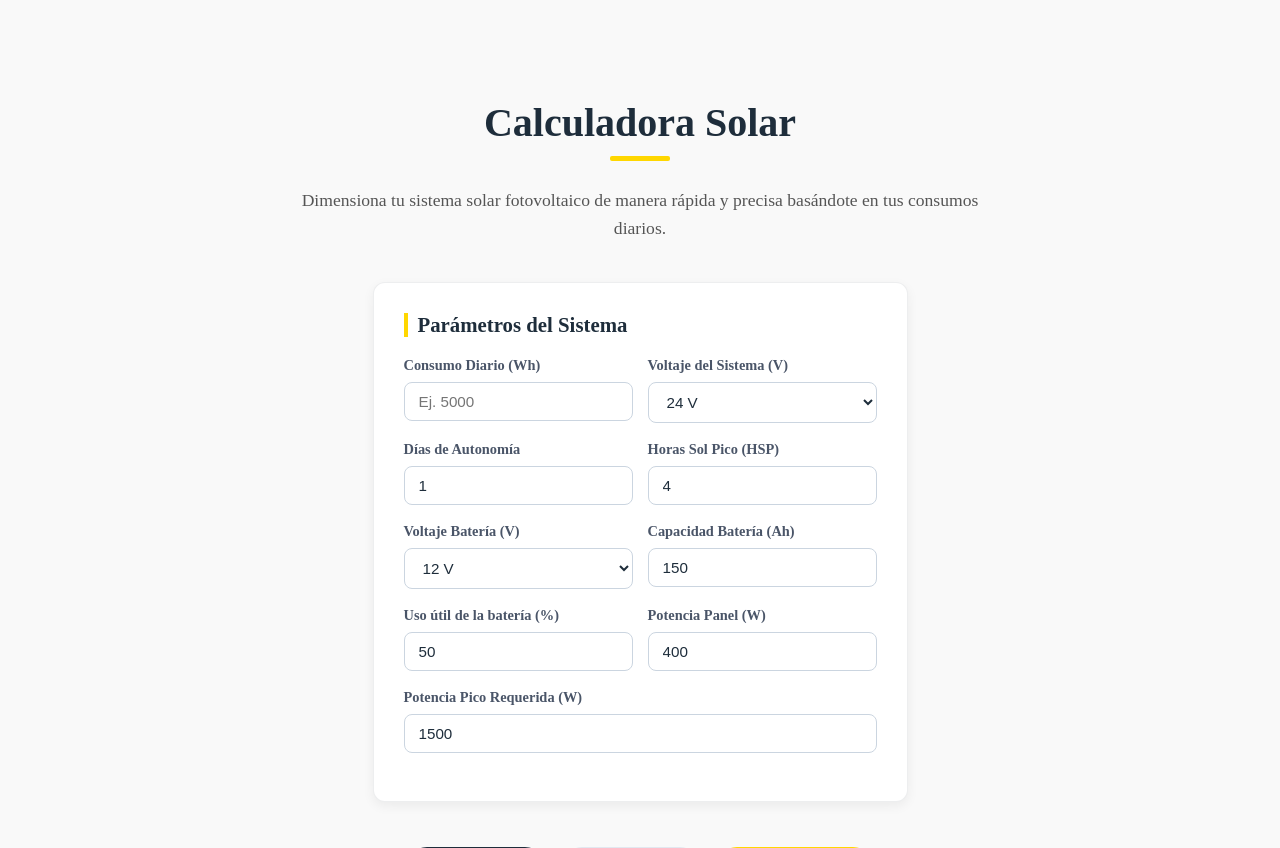
Test: CalculadoraSolar › calcula y muestra los resultados
This screenshot has width=1280, height=848.
Type "5000" into the number field with placeholder "Ej. 5000".
click(518, 402); type("5000")  # box [404, 382, 632, 422]
(page scrolled)
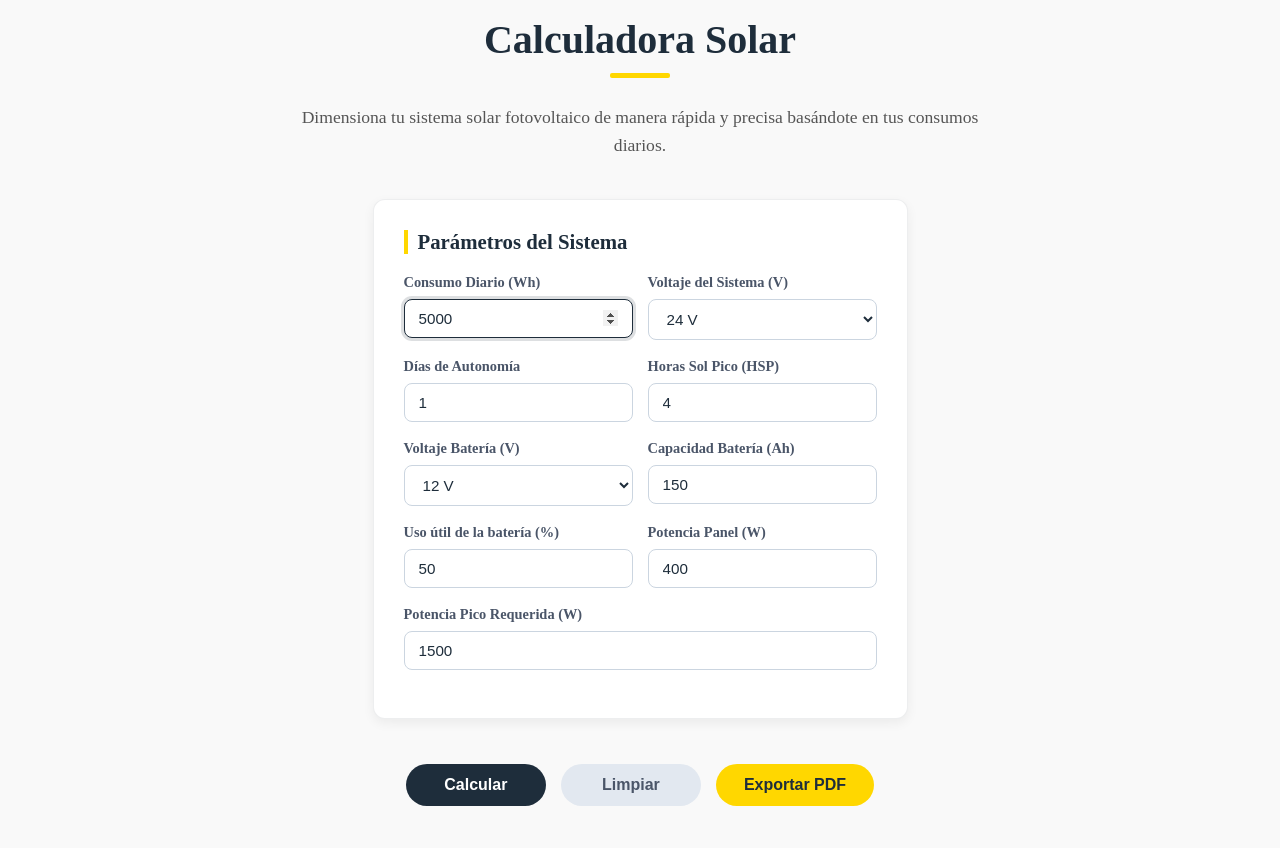
Click the button "Calcular".
click(476, 786)  # box [406, 764, 546, 806]
(page scrolled)
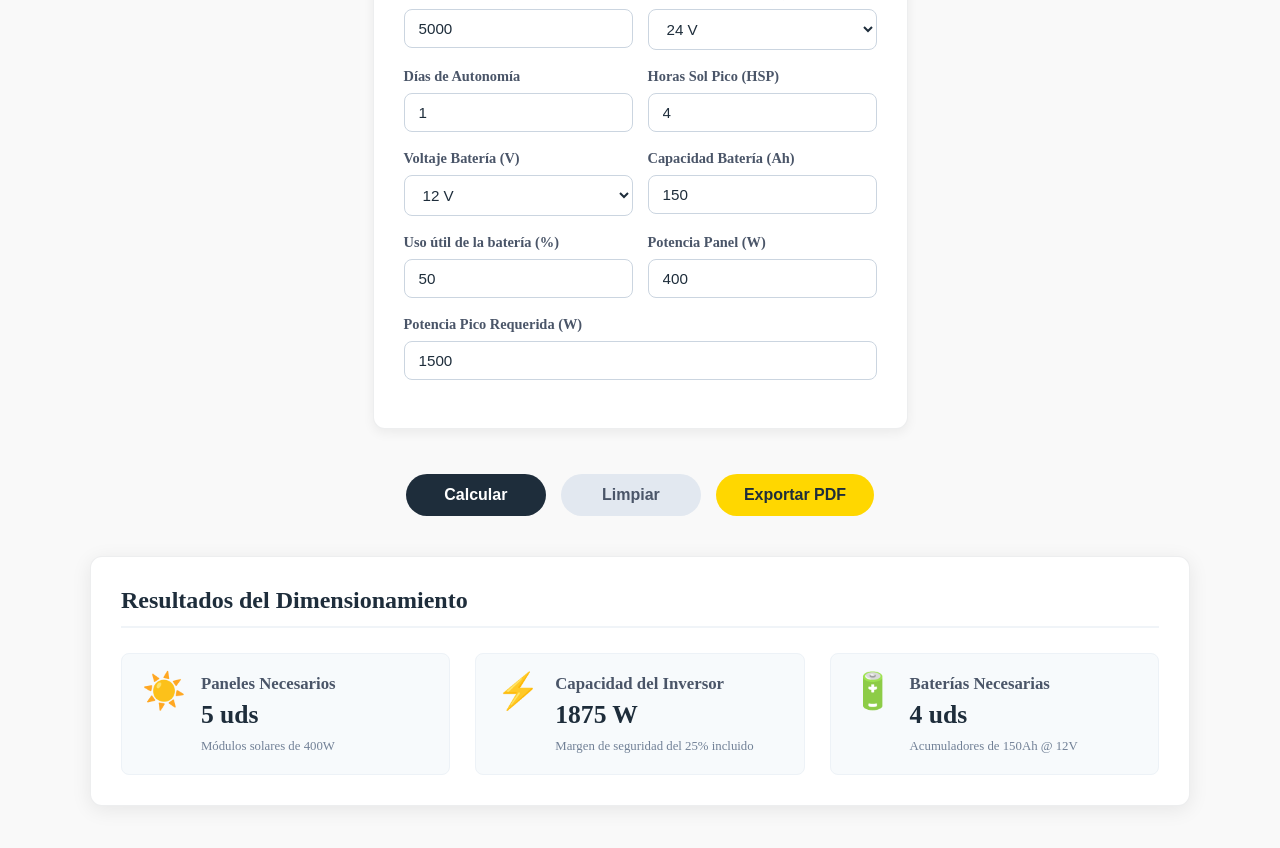
Now the text "5 uds" is shown, box [201, 700, 258, 730]
Now the text "1875 W" is shown, box [555, 700, 638, 730]
Now the text "4 uds" is shown, box [910, 700, 967, 730]
